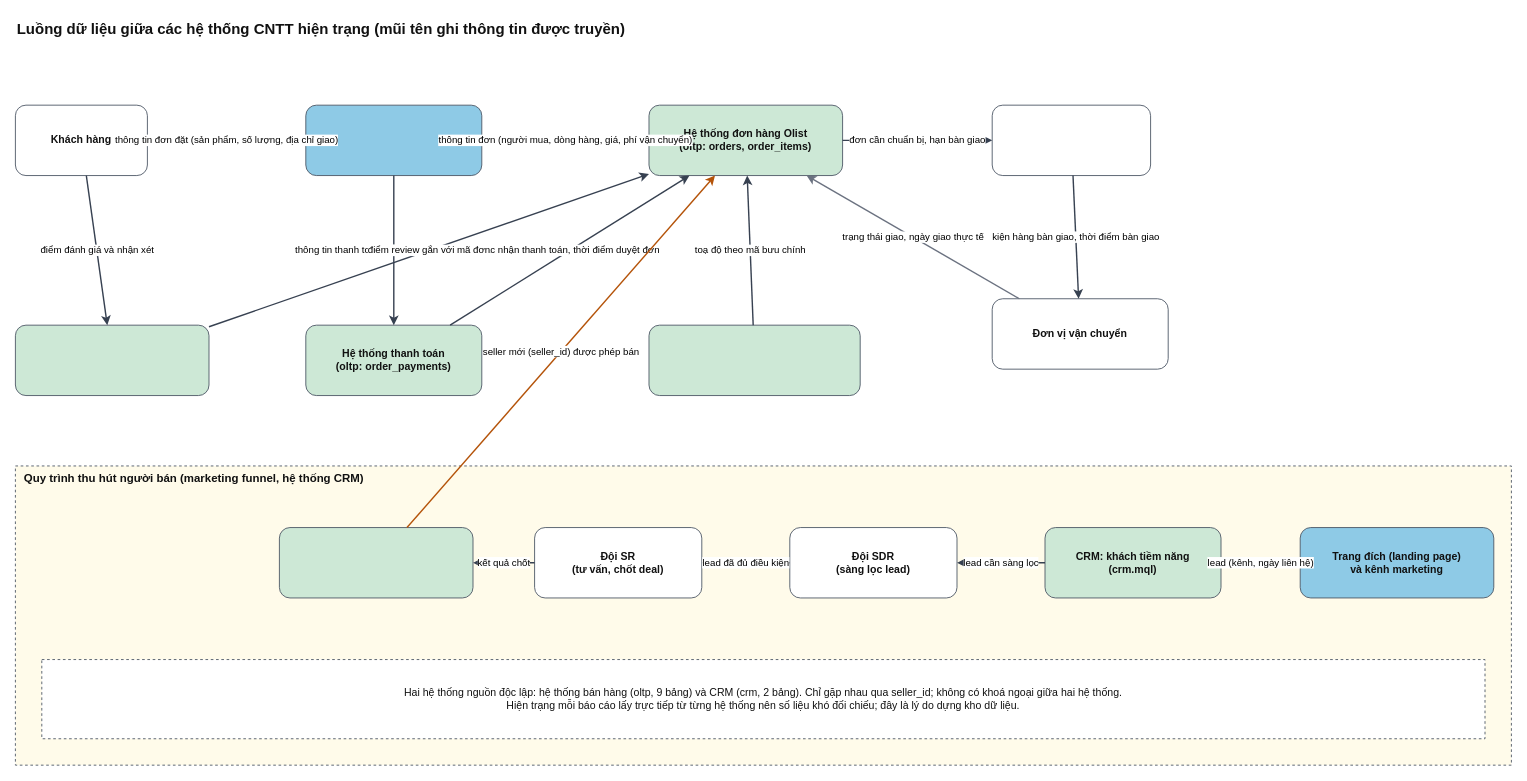
The diagram is 1527 pixels wide and 781 high, and some of its shapes have lost their labels. The centre of each missing label's shape, as x and y in pixels:
"CRM: thương vụ đã chốt (crm.closed_deals)" goes at (376,562).
"Dữ liệu địa chỉ (oltp: geolocation, customers, sellers)" goes at (754,360).
"Hệ thống đánh giá (oltp: order_reviews)" goes at (112,360).
"Marketplace / kênh bán (sàn thương mại điện tử)" goes at (393,140).
"Người bán (seller)" goes at (1071,140).
